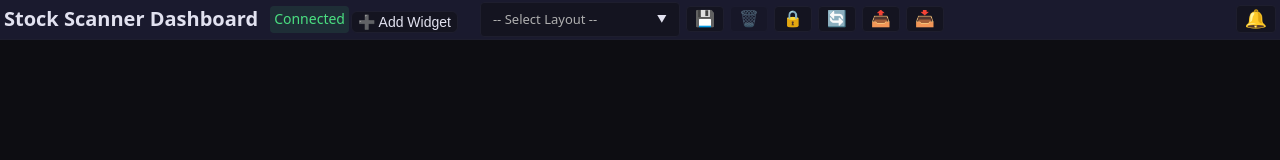
Test: dashboardColNum input control › with isLocked false expect col-num stepper visible
The width and height of the screenshot is (1280, 160).
Note: Act — unlock
Step 1. Click the button "🔒" → x=793, y=19, box 774,6 -> 812,32
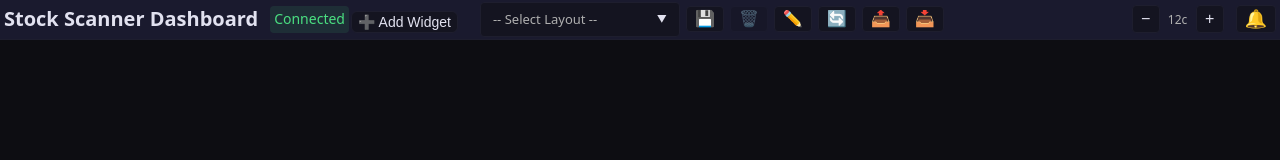
Now the element with class "col-num-stepper" is shown, box 1132,5 -> 1224,33
